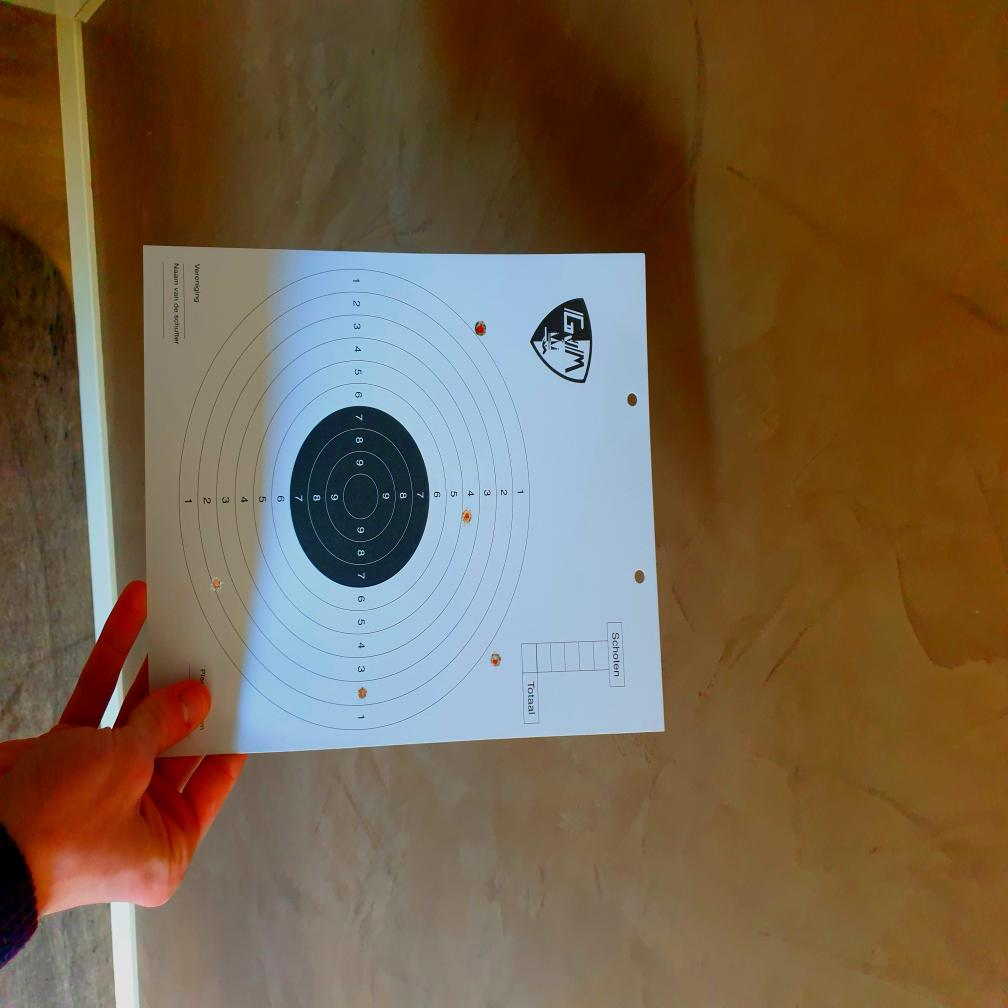0: (474, 320, 487, 336), (490, 652, 501, 667)
2: (208, 577, 224, 592), (356, 687, 368, 701)
5: (462, 507, 472, 527)
Target: (177, 267, 531, 733)
black_contour: (290, 406, 430, 588)
